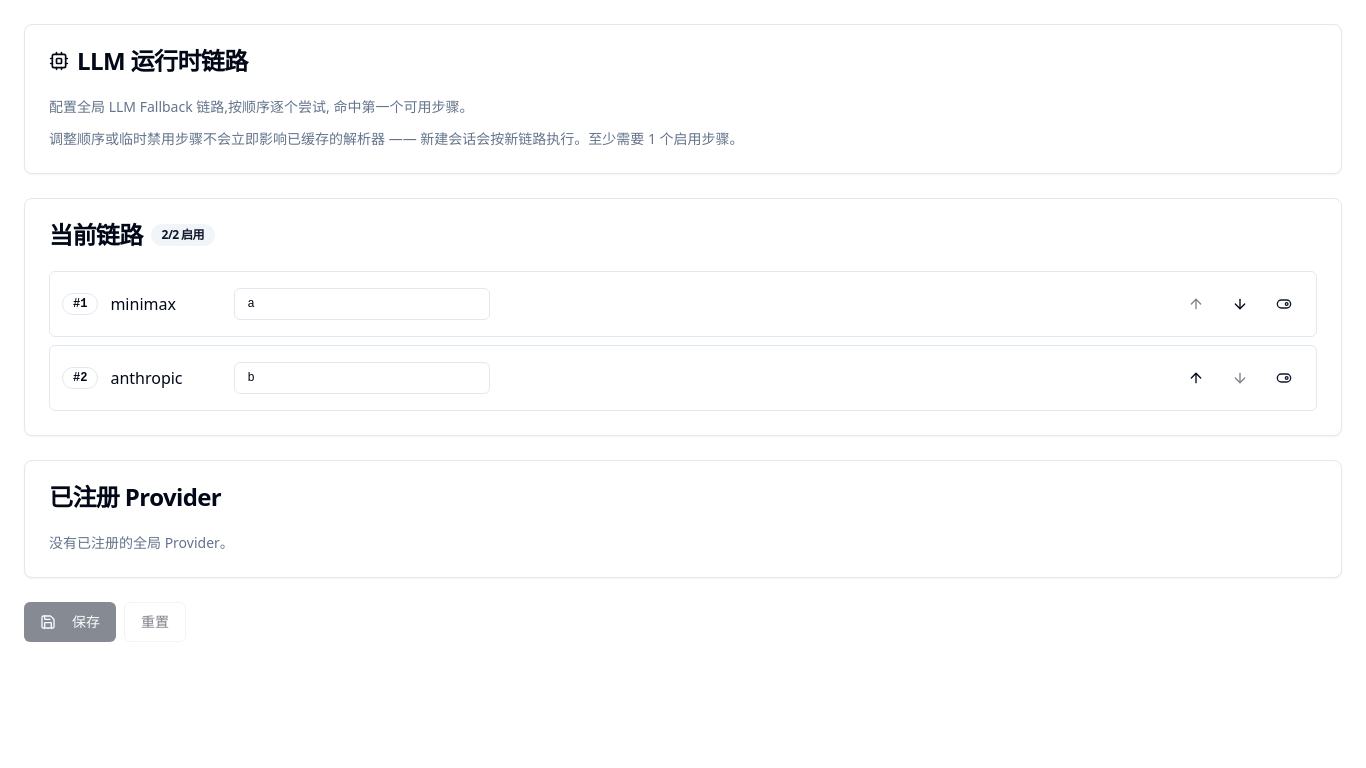
Test case: AdminLlmChainPage (Tier 3 Task 3.4) › reorders rows via the move buttons
Expected: the list item with test id "chain-row-minimax" is shown, x1=49 y1=271 x2=1317 y2=337
Click the button with test id "chain-down-minimax": click(1240, 304) x1=1220 y1=284 x2=1260 y2=324
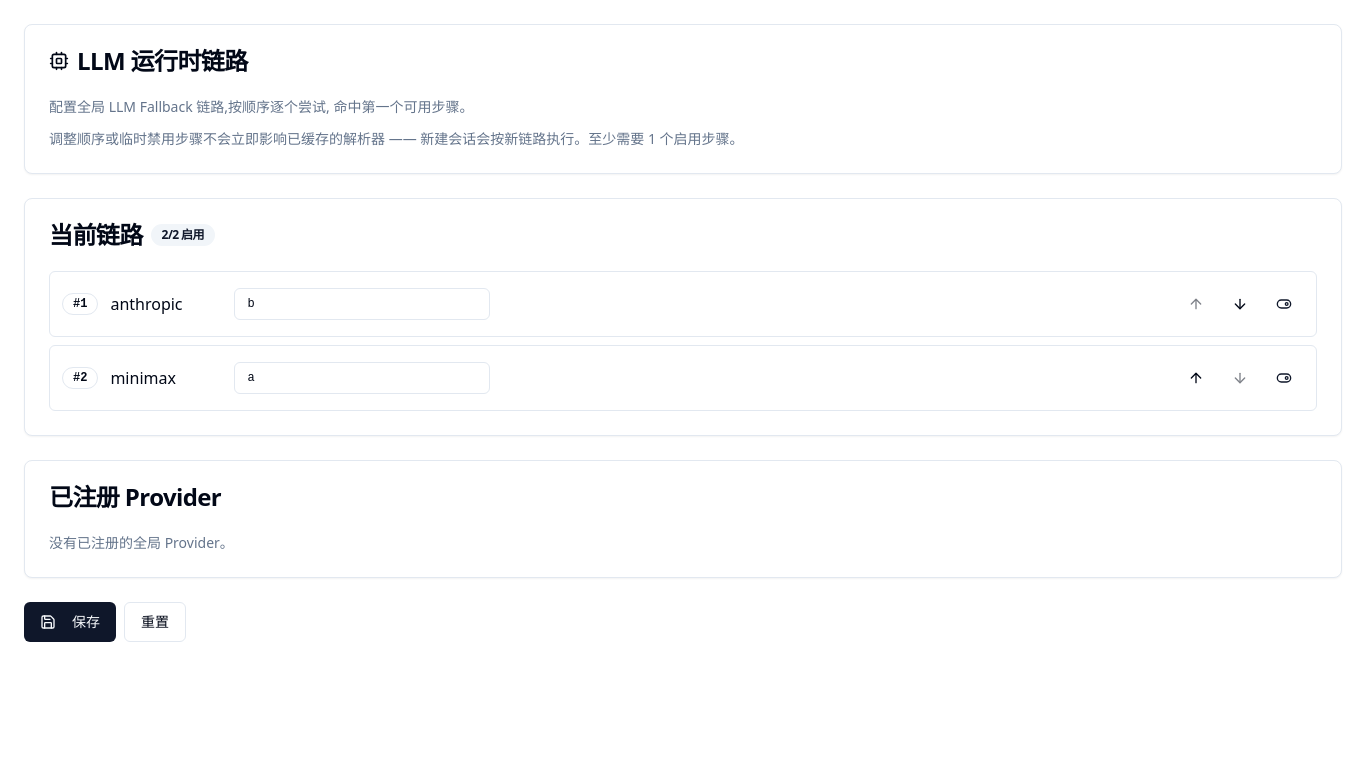
Result: the button with test id "chain-save" is enabled at x1=24 y1=602 x2=116 y2=642
Result: the list item with test id "chain-row-anthropic" shows "#1" at x1=49 y1=271 x2=1317 y2=337
